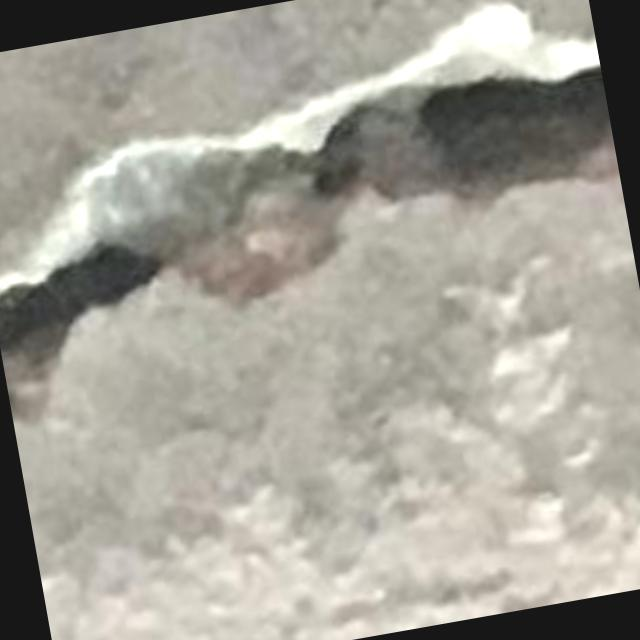crack: (0, 2, 619, 415)
